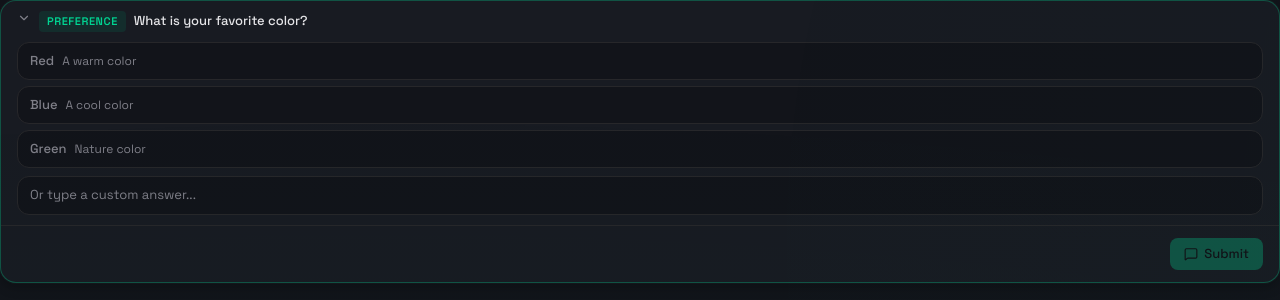
Test: QuestionCard — collapsing › reports its state to assistive tech without hiding the question
Click the button "Preference What is your favorite color?" at {"x": 82, "y": 22}, box [17, 11, 1263, 32]
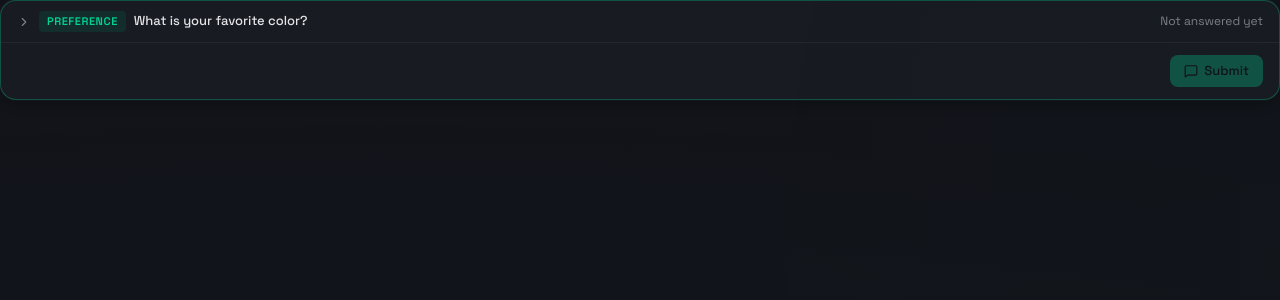
expect the button "Preference What is your favorite color? Not answered yet" is collapsed: met, box [17, 11, 1263, 32]
